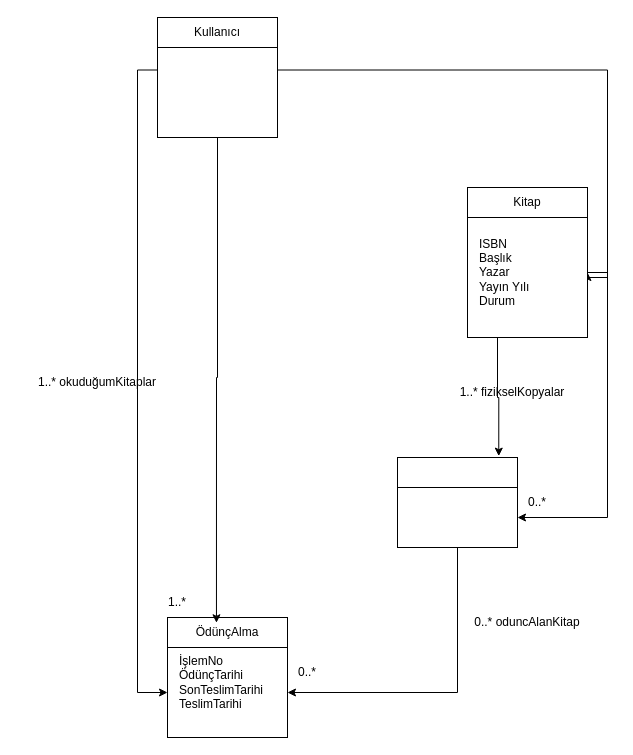
This 633x755 diagram has some shape labels left out. The centre of each missing label's shape, as x and y in pixels:
"Barkod" belongs at (x=457, y=517).
"ID Ad E-posta Şifre" belongs at (x=217, y=92).
"KitapKopyası" belongs at (x=457, y=472).
